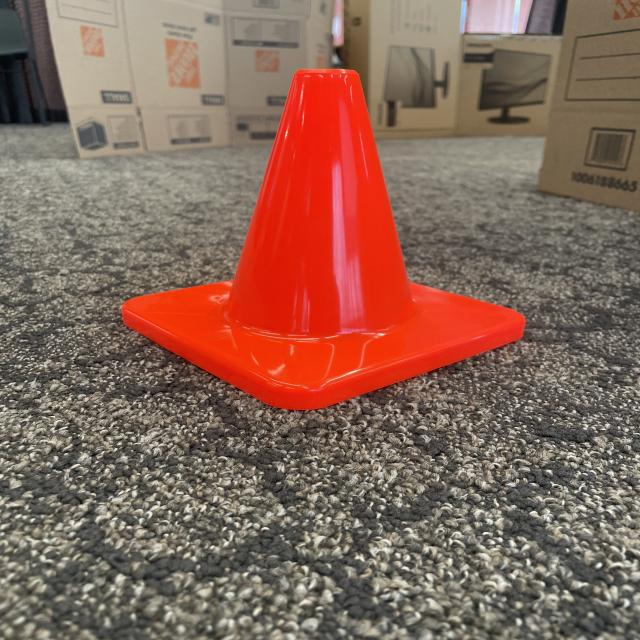Traffic Cone: (120, 66, 522, 414)
